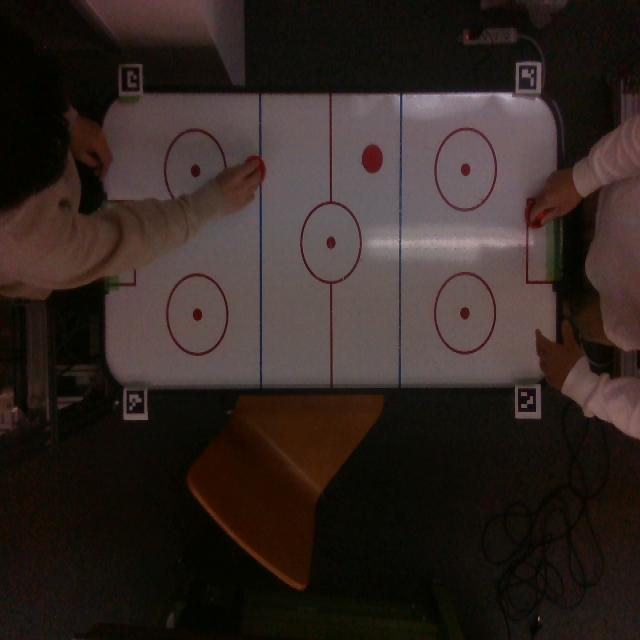puck: (362, 144, 383, 174)
